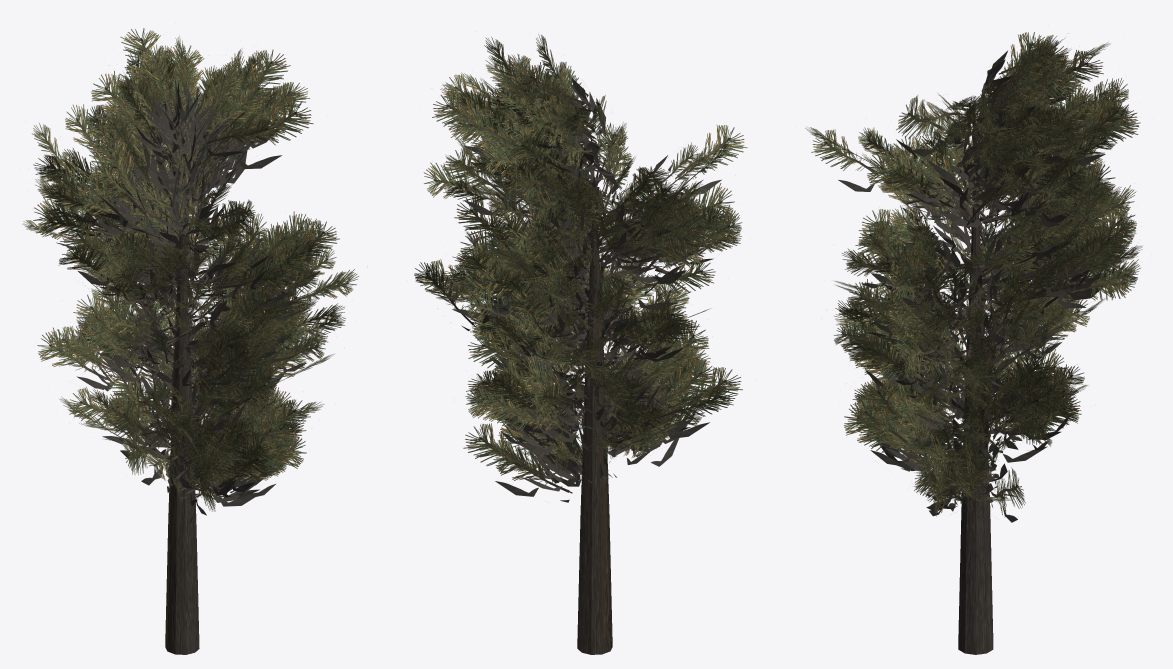
Rendered from pine_tree_01_mobile.glb.
3 renders of one model, left to right at view 1: azimuth 30°, elevation 25°; view 2: azimuth 150°, elevation 25°; view 3: azimuth 270°, elevation 25°, orthographic. The views are drawn at different scales.
Visible parts, largest first — view 1: PineNeedles, PineTrunk; view 2: PineNeedles, PineTrunk; view 3: PineNeedles, PineTrunk.
Part boxes in pixels (left/top/right/bottom): PineNeedles: left=22, top=28, right=358, bottom=523; PineTrunk: left=78, top=97, right=294, bottom=654; PineNeedles: left=414, top=34, right=747, bottom=502; PineTrunk: left=476, top=135, right=702, bottom=654; PineNeedles: left=805, top=32, right=1142, bottom=522; PineTrunk: left=880, top=81, right=1099, bottom=654.
Size of the model in its own units: 4.52 by 8.41 by 4.34.
3 materials, 3 textured.
